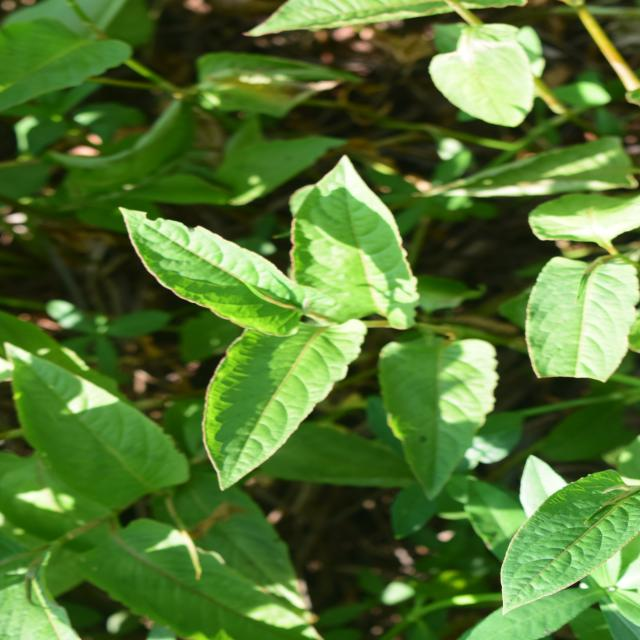Chinese_knotweed: (138, 147, 459, 494)
